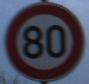Speed Limit -80-: (0, 0, 88, 83)
